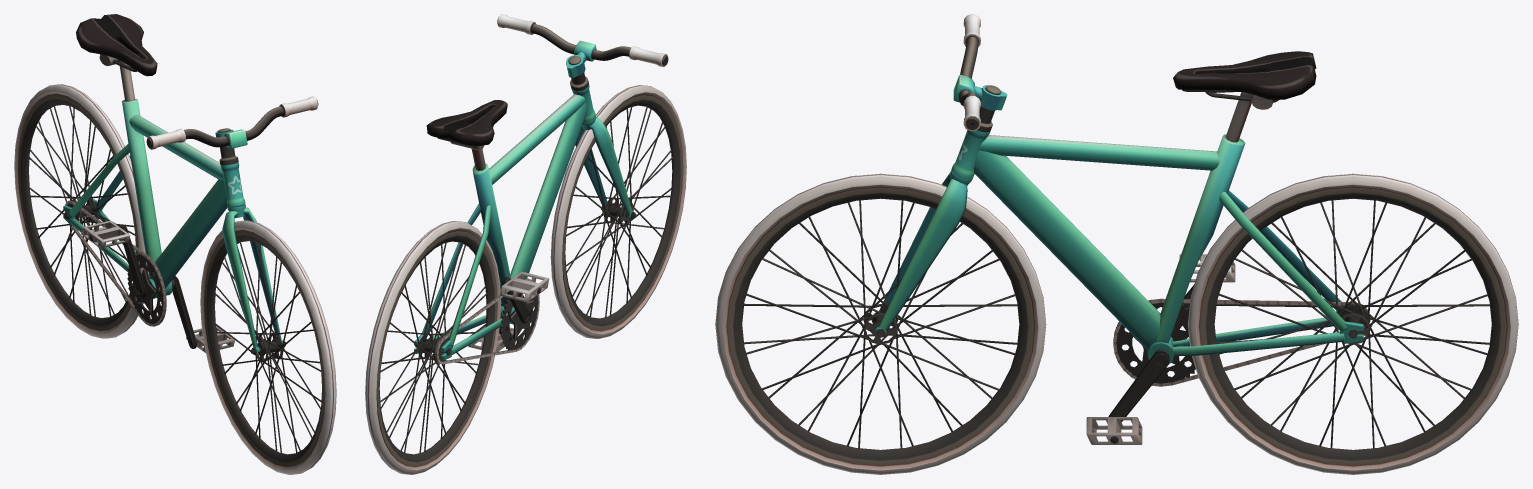
Rendered from bicycle.obj.
3 renders of one model, left to right at view 1: azimuth 30°, elevation 25°; view 2: azimuth 150°, elevation 25°; view 3: azimuth 270°, elevation 25°, orthographic. The views are drawn at different scales.
Visible parts, largest first — view 1: mesh_bike_mesh_Mesh; view 2: mesh_bike_mesh_Mesh; view 3: mesh_bike_mesh_Mesh.
Part boxes in pixels (left/top/right/bottom): mesh_bike_mesh_Mesh: left=14, top=14, right=336, bottom=474; mesh_bike_mesh_Mesh: left=365, top=14, right=686, bottom=474; mesh_bike_mesh_Mesh: left=715, top=14, right=1518, bottom=474.
Size of the model in its own units: 0.4977 by 0.9285 by 1.64.
